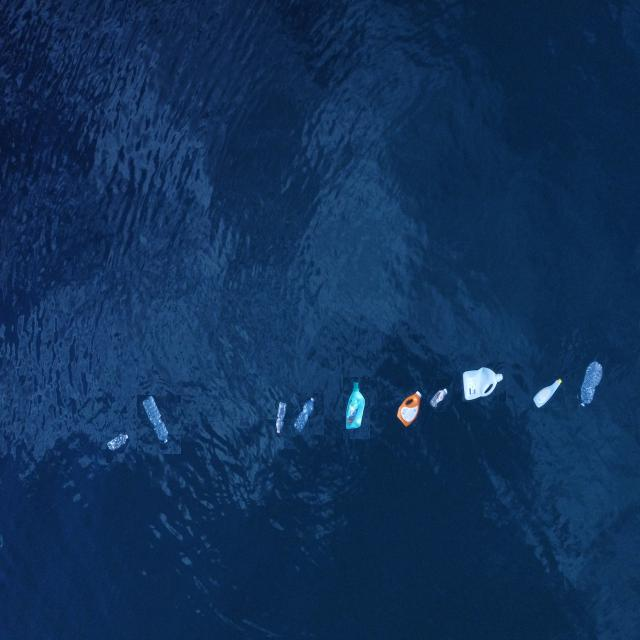bottles: (137, 395, 181, 454), (462, 362, 506, 402), (343, 377, 370, 439), (579, 351, 604, 415), (291, 393, 324, 435), (396, 384, 424, 432), (106, 422, 136, 463), (269, 395, 295, 437), (533, 376, 565, 408), (427, 379, 453, 412)
